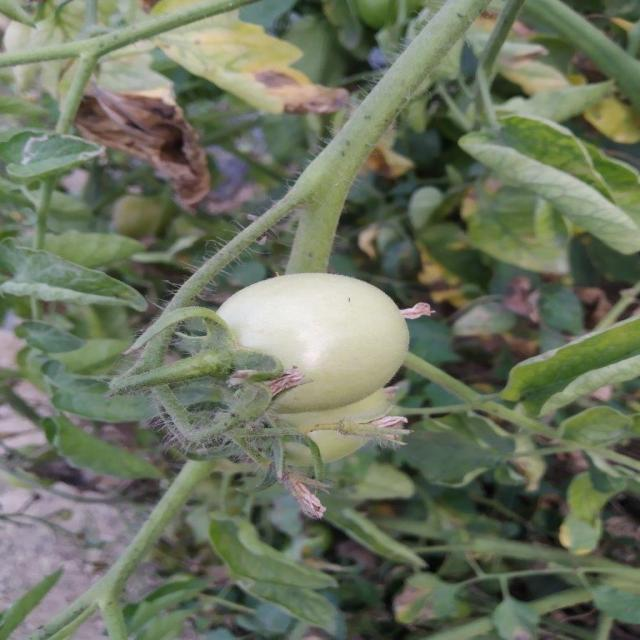Unripe: (210, 273, 412, 415)
